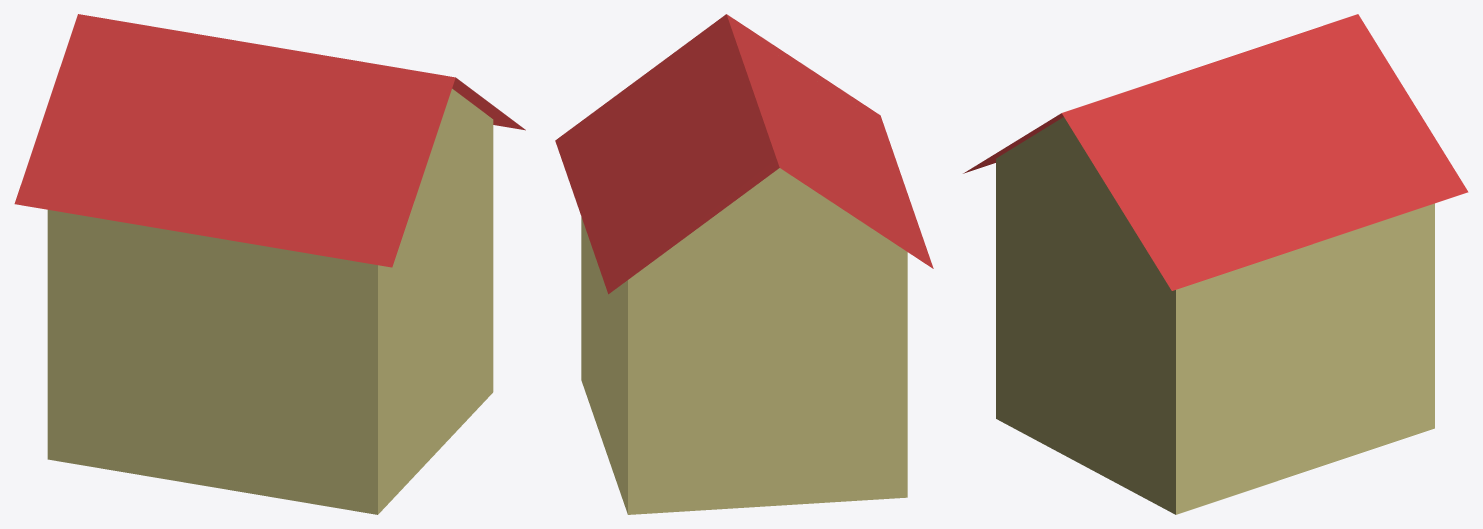
3 renders of one model, left to right at view 1: azimuth 30°, elevation 25°; view 2: azimuth 150°, elevation 25°; view 3: azimuth 270°, elevation 25°, orthographic. The views are drawn at different scales.
Bounding box in the file's own units: 15.73 × 15.94 × 12.41.
